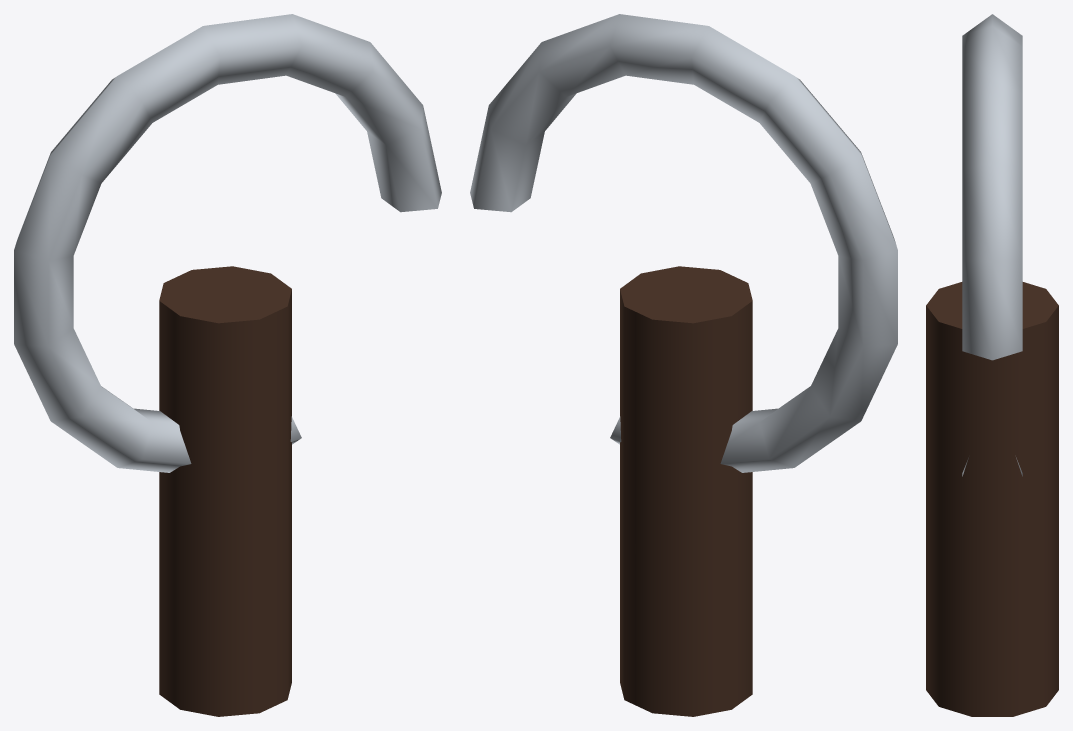
Rendered from shade-hook.glb.
3 views of the same model, side by side, from view 1: azimuth 30°, elevation 25°; view 2: azimuth 150°, elevation 25°; view 3: azimuth 270°, elevation 25° (orthographic). The views are drawn at different scales.
Visible parts, largest first — view 1: Grip, Hook; view 2: Grip, Hook; view 3: Grip, Hook.
Part boxes in pixels (<box>): Grip: <box>159,266,291,716</box>; Hook: <box>14,14,441,472</box>; Grip: <box>620,266,752,716</box>; Hook: <box>470,14,897,472</box>; Grip: <box>926,282,1058,716</box>; Hook: <box>962,14,1022,476</box>.
Size of the model in its own units: 0.182 by 0.2715 by 0.05.
